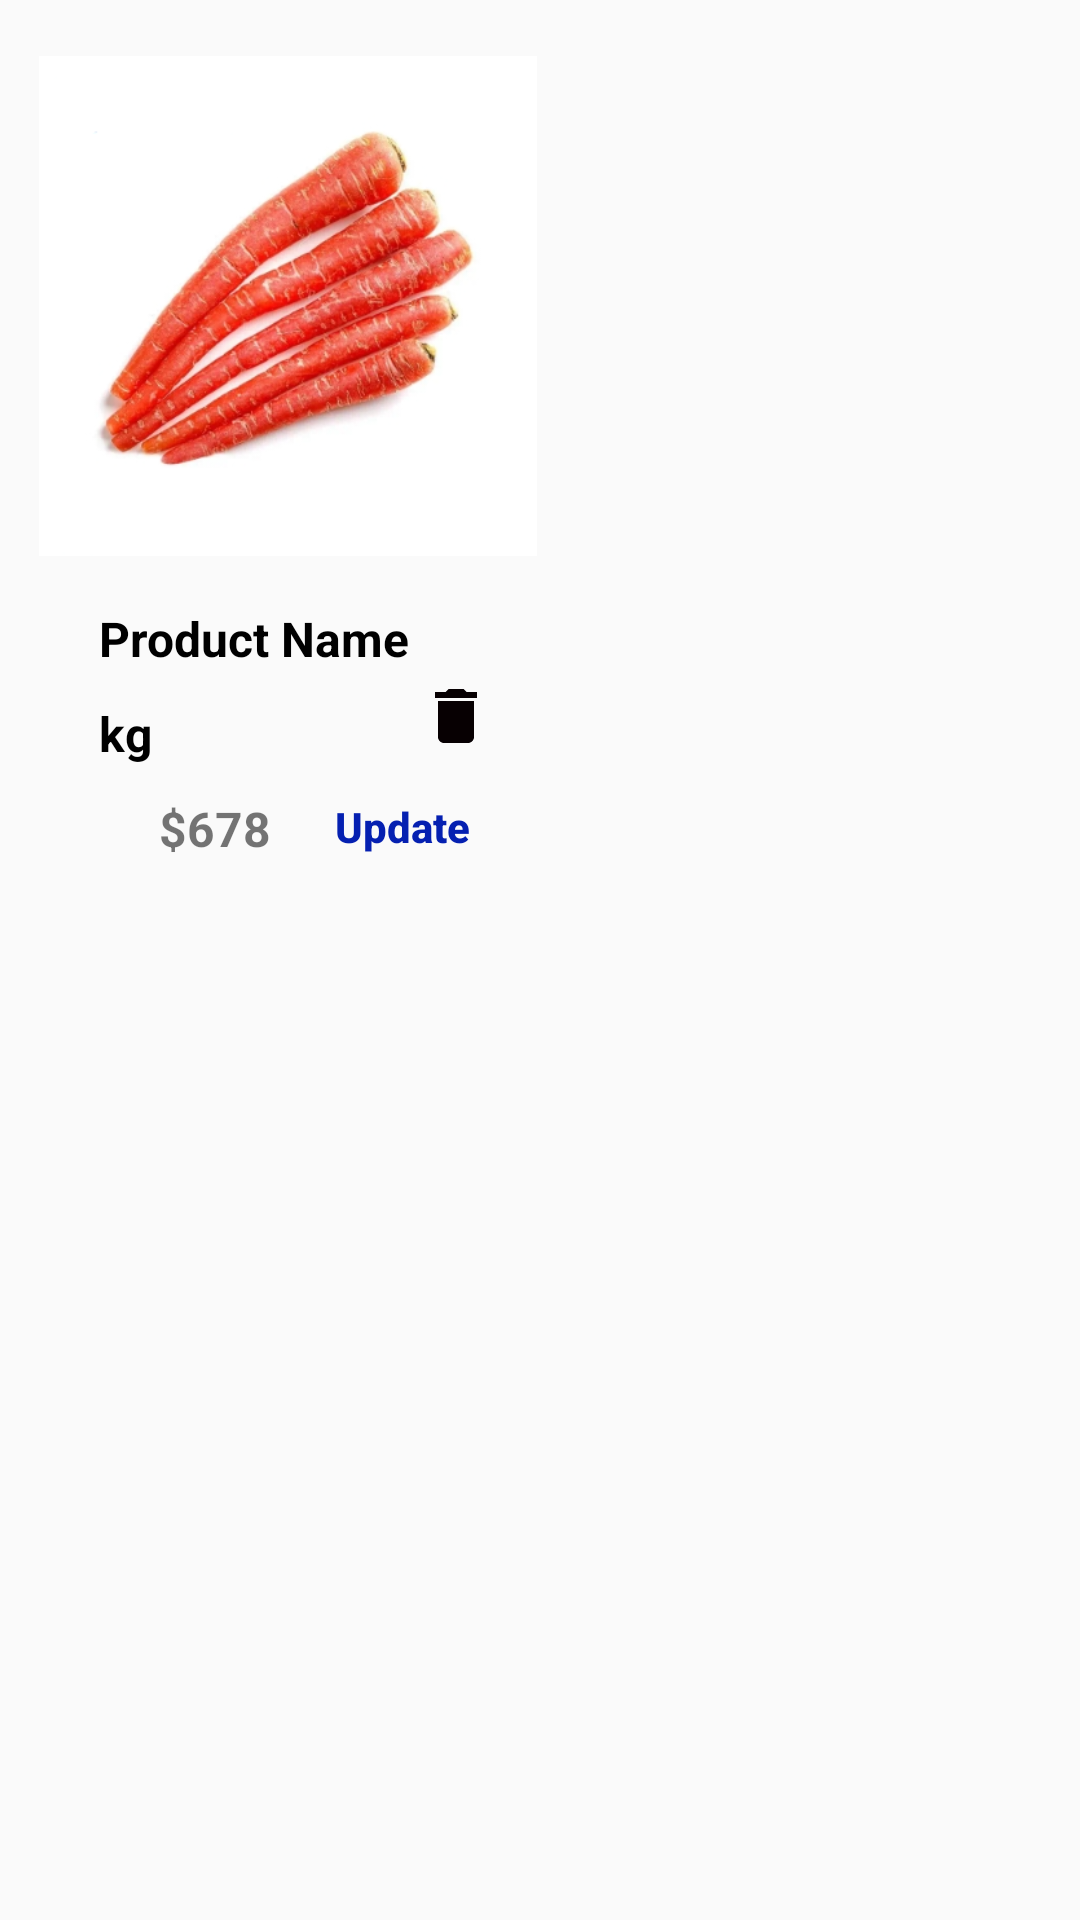

Screen size 1080px×1920px. Icon name, then its center in pixels as point (x, y):
delete: point (456, 716)
